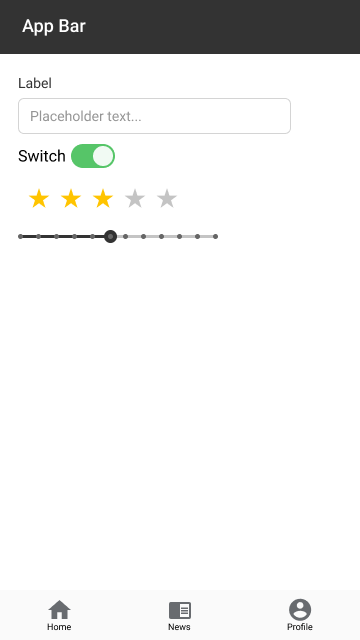editText: (15, 94, 295, 138)
navigationButton: (2, 593, 360, 639)
ratingBar: (24, 183, 182, 211)
slider: (14, 226, 225, 248)
switch: (17, 142, 118, 169)
textView: (16, 74, 55, 91)
toolbar: (1, 1, 360, 54)
